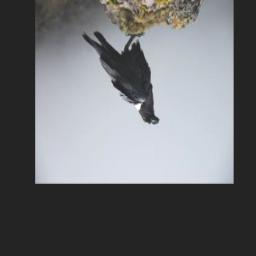Crow: (80, 26, 160, 130)
